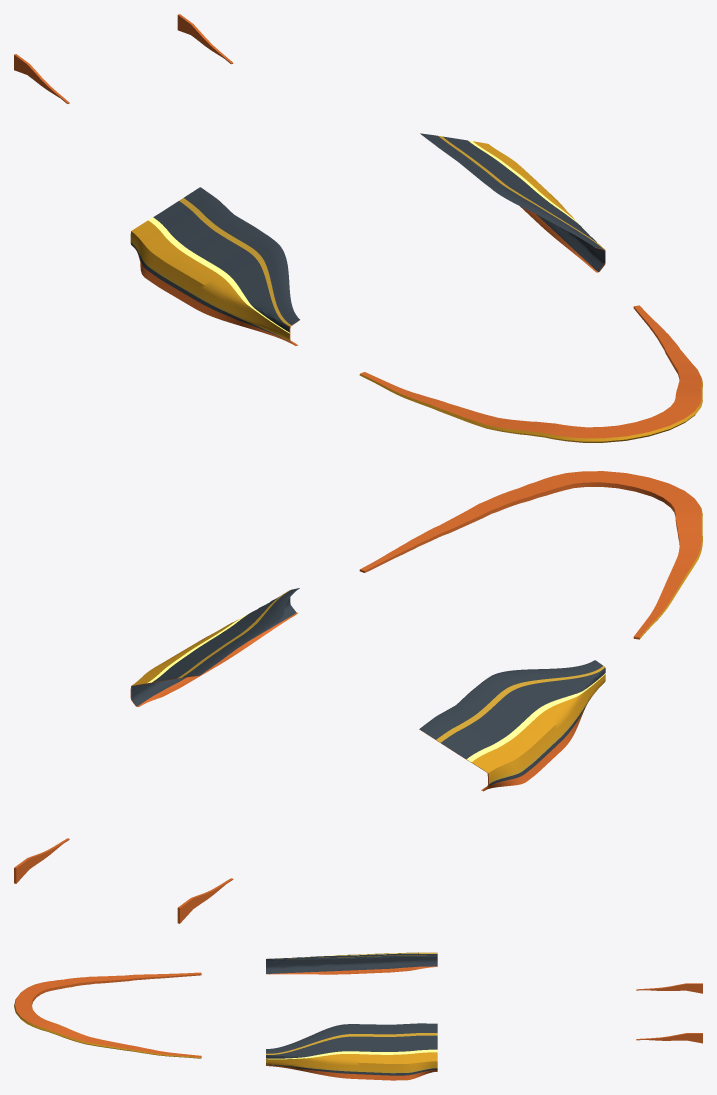
File: bastion_armor_aegis.fbx
The picture shows the model from 3 angles, top to bottom: view 1: azimuth 30°, elevation 25°; view 2: azimuth 150°, elevation 25°; view 3: azimuth 270°, elevation 25°; orthographic projection. The views are drawn at different scales.
Parts seen in each view (by area): view 1: Armor_Aegis; view 2: Armor_Aegis; view 3: Armor_Aegis.
Boxes of the visible parts, x1,y1,x2,y2 form: Armor_Aegis: (14,14,702,442); Armor_Aegis: (14,471,702,923); Armor_Aegis: (14,952,702,1080).
Bounding box in the file's own units: 281 × 37.12 × 706.
